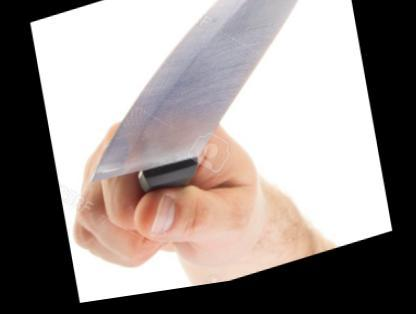knife: (45, 0, 374, 276)
